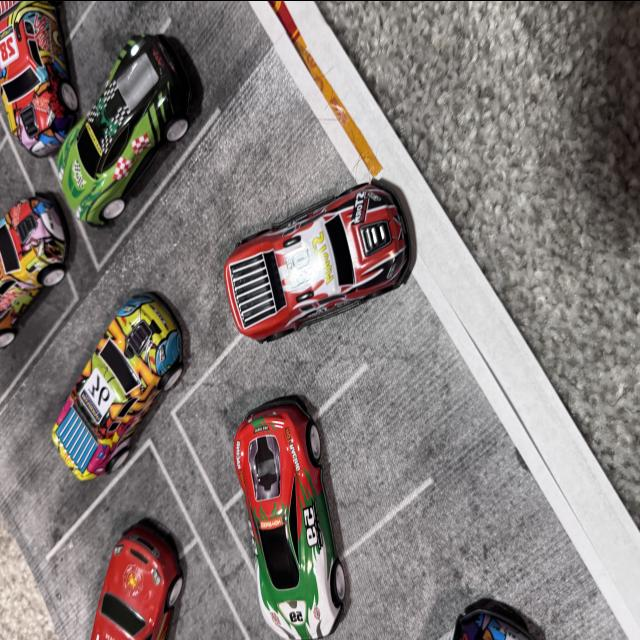Car: (213, 186, 425, 358), (218, 385, 358, 640), (20, 308, 189, 496), (70, 46, 224, 236), (0, 0, 89, 179), (1, 185, 68, 375), (88, 526, 174, 640)
